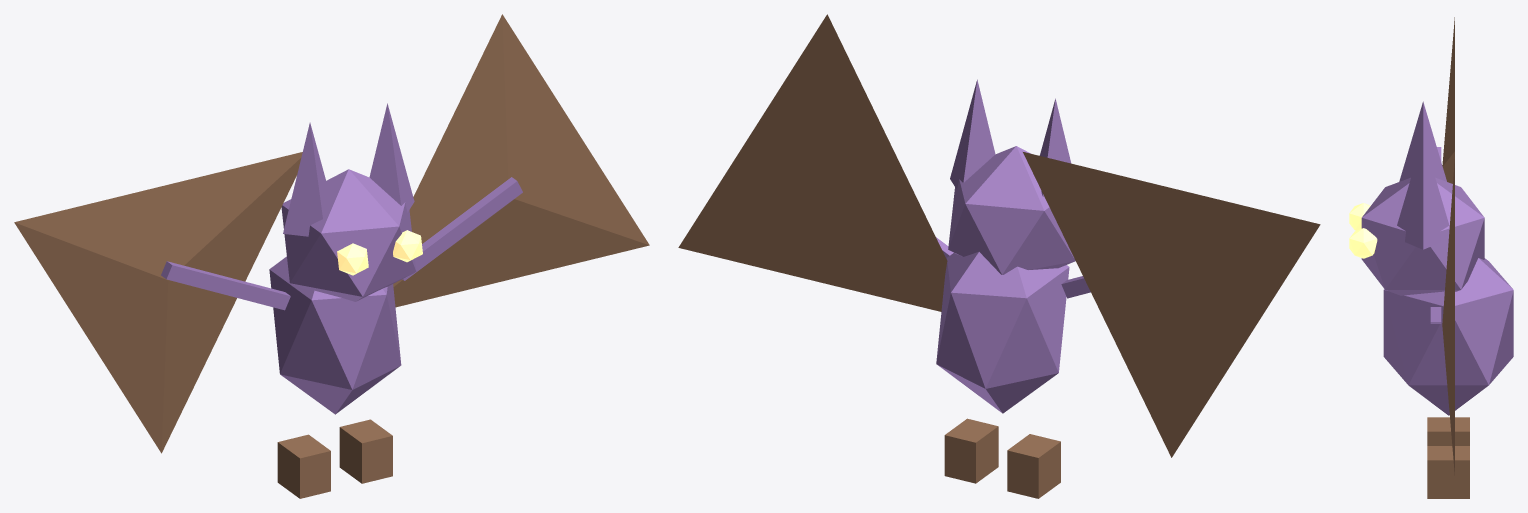
The model's file is bat.glb.
3 views of the same model, side by side, from view 1: azimuth 30°, elevation 25°; view 2: azimuth 150°, elevation 25°; view 3: azimuth 270°, elevation 25° (orthographic). The views are drawn at different scales.
Parts seen in each view (by area): view 1: wing_l, wing_r, body.003, head.003, foot_l.002, foot_r.002, ear_l.002, strut_r, strut_l, ear_r.002, eye_l.005, eye_r.005; view 2: wing_l, wing_r, body.003, head.003, foot_r.002, foot_l.002, ear_r.002, ear_l.002; view 3: body.003, head.003, ear_r.002, foot_r.002, wing_r, ear_l.002, wing_l, foot_l.002, eye_r.005, eye_l.005, strut_r.
Part boxes in pixels (x1,y1,x2,y2): wing_l: (14,152,302,453); wing_r: (393,14,649,307); body.003: (269,256,401,414); head.003: (281,169,416,301); foot_l.002: (277,434,330,498); foot_r.002: (339,419,392,483); ear_l.002: (283,122,328,236); strut_r: (402,177,522,280); strut_l: (161,261,290,310); ear_r.002: (369,103,414,212); eye_l.005: (337,243,368,275); eye_r.005: (393,230,422,262); wing_l: (1023,152,1320,457); wing_r: (678,14,947,311); body.003: (936,252,1069,413); head.003: (948,146,1075,274); foot_r.002: (944,418,998,483); foot_l.002: (1007,434,1060,498); ear_r.002: (950,79,995,189); ear_l.002: (1039,98,1071,197); body.003: (1383,258,1513,415); head.003: (1361,177,1484,295); ear_r.002: (1397,137,1449,249); foot_r.002: (1427,446,1469,498); wing_r: (1442,159,1454,475); ear_l.002: (1399,101,1446,181); wing_l: (1442,17,1454,183); foot_l.002: (1427,417,1469,445); eye_r.005: (1349,228,1377,258); eye_l.005: (1349,203,1370,230); strut_r: (1430,307,1441,323).
Size of the model in its own units: 1.64 by 1.04 by 0.3871.
